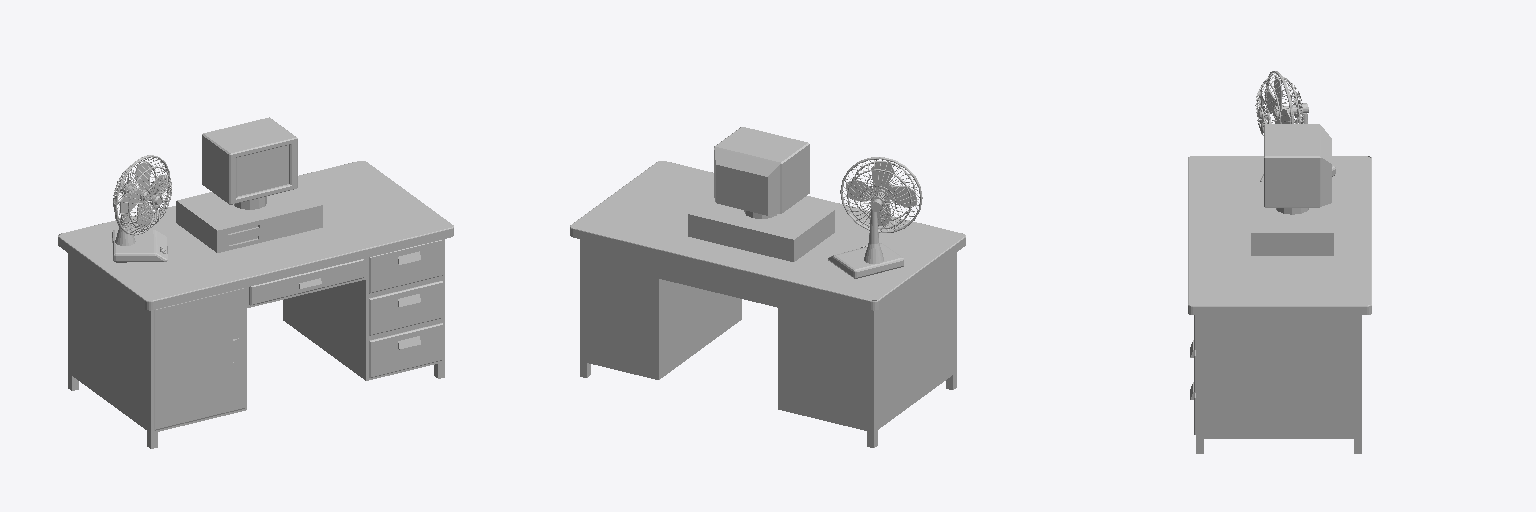
File: Desk_02.obj
3 renders of one model, left to right at view 1: azimuth 30°, elevation 25°; view 2: azimuth 150°, elevation 25°; view 3: azimuth 270°, elevation 25°, orthographic.
Visible parts, largest first — view 1: Desk; view 2: Desk; view 3: Desk.
Boxes of the visible parts, <box> form: Desk: <box>58,117,453,448</box>; Desk: <box>570,127,965,447</box>; Desk: <box>1188,71,1371,453</box>.
Size of the model in its own units: 1.72 by 1.34 by 0.8905.